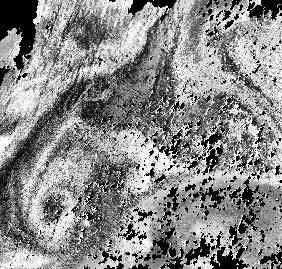CE: (13, 179, 83, 243)
